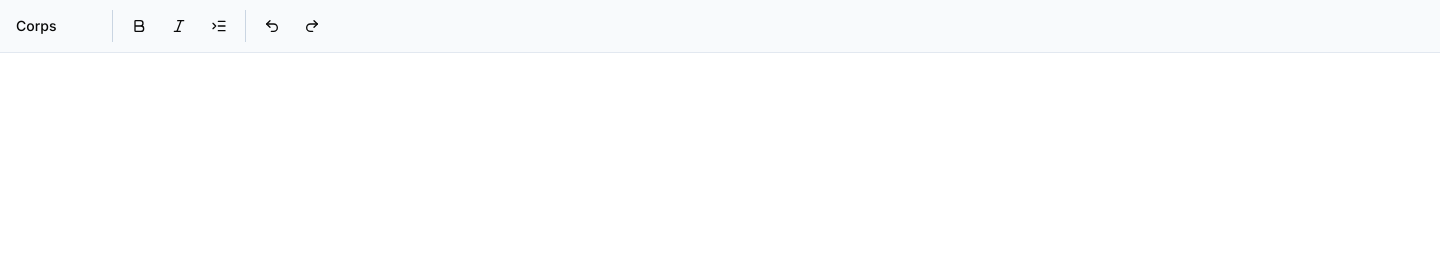
FormattingToolbar › Profile-adaptive toolbar › print-ready profile › shows all semantic roles in dropdown
The image size is (1440, 269).
Click the button titled "Style sémantique" at {"x": 56, "y": 26}, box [8,10,104,42]
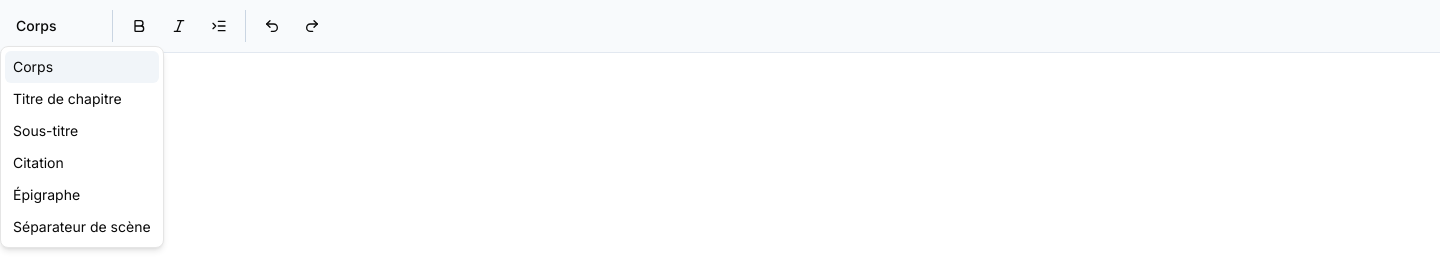
Check: the menu item "Corps" is shown, box [5,51,159,83]
Check: the menu item "Titre de chapitre" is shown, box [13,90,122,107]
Check: the menu item "Sous-titre" is shown, box [13,122,78,139]
